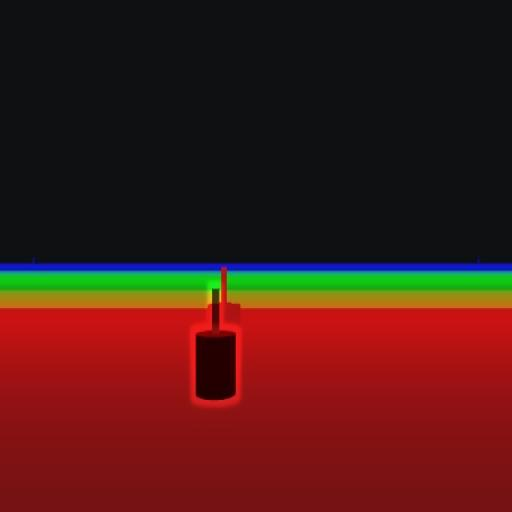floating_obstacle: (195, 287, 237, 400)
